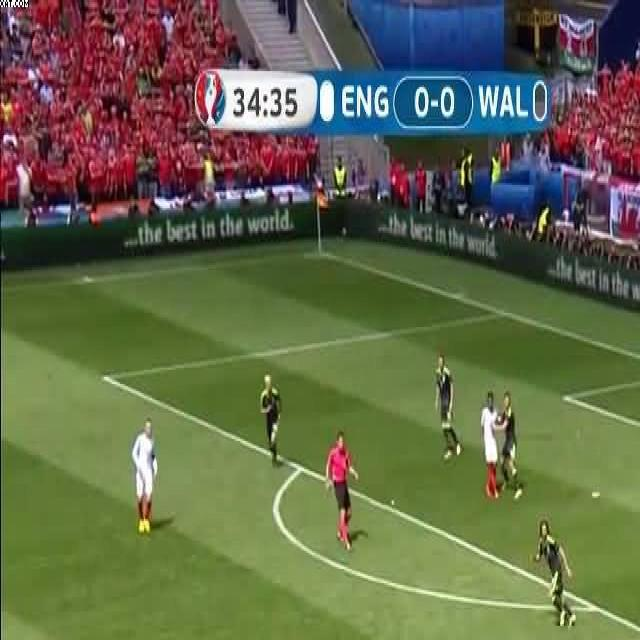player-white: (532, 521, 576, 627), (326, 431, 357, 553), (132, 417, 158, 535), (495, 392, 523, 498), (435, 357, 461, 461), (258, 374, 282, 470), (480, 391, 500, 498)
